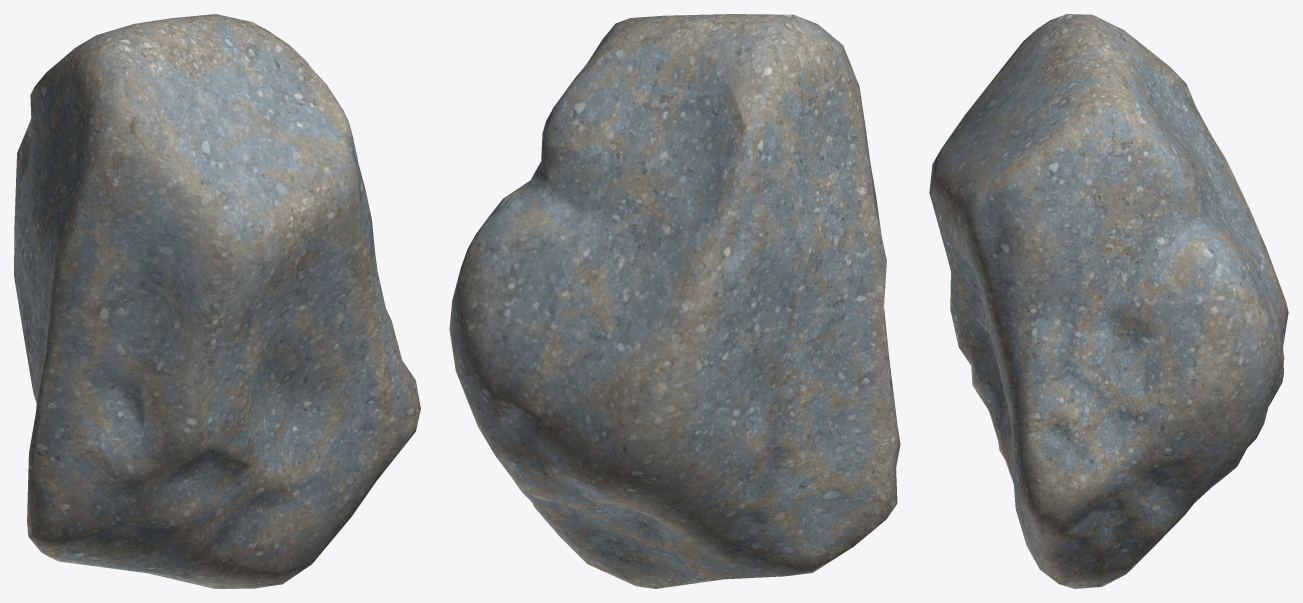
3 views of the same model, side by side, from view 1: azimuth 30°, elevation 25°; view 2: azimuth 150°, elevation 25°; view 3: azimuth 270°, elevation 25° (orthographic). The views are drawn at different scales.
Parts seen in each view (by area): view 1: stone_03_low; view 2: stone_03_low; view 3: stone_03_low.
Part boxes in pixels (x1,y1,x2,y2): stone_03_low: [14, 14, 420, 588]; stone_03_low: [449, 14, 900, 588]; stone_03_low: [929, 14, 1288, 588].
Size of the model in its own units: 1.37 by 2 by 1.28.
1 material, 1 textured.
